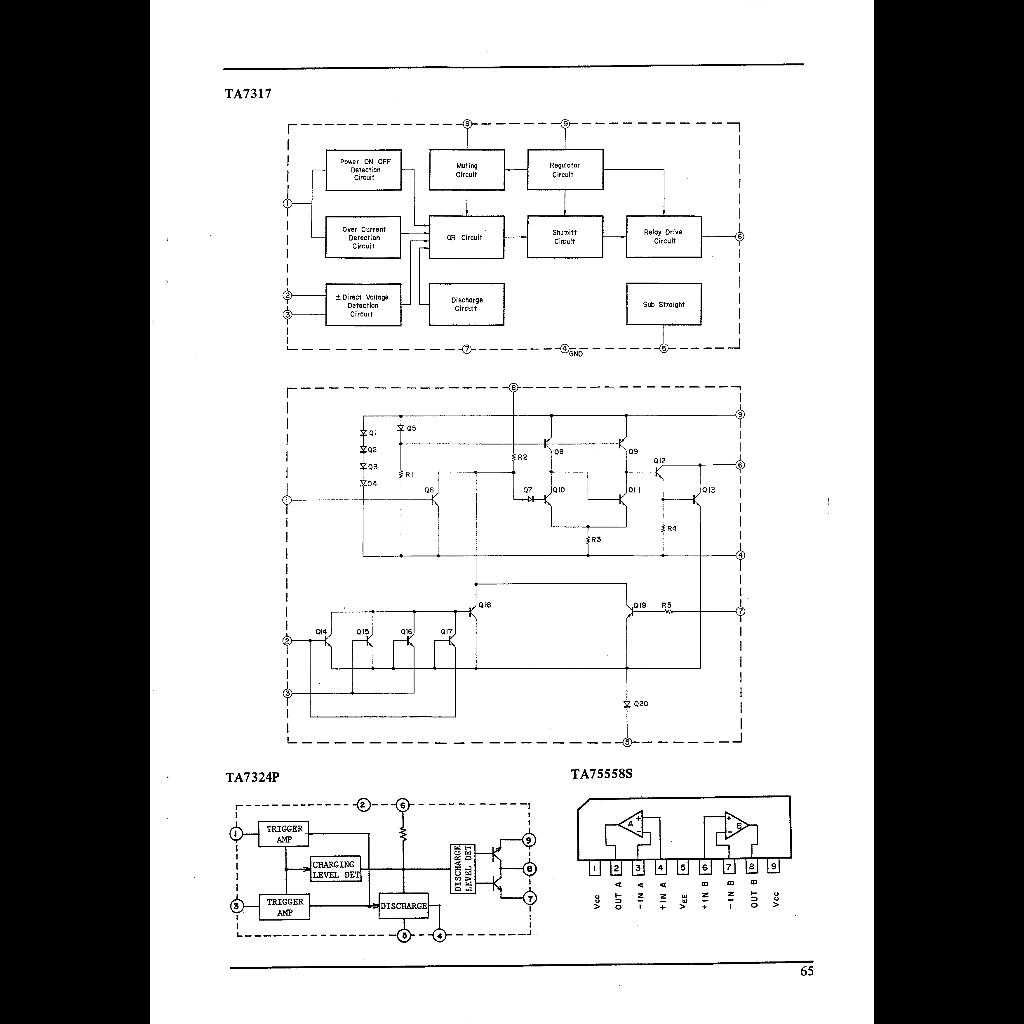Diagram: (272, 113, 758, 757), (224, 794, 546, 952), (570, 792, 818, 916)
